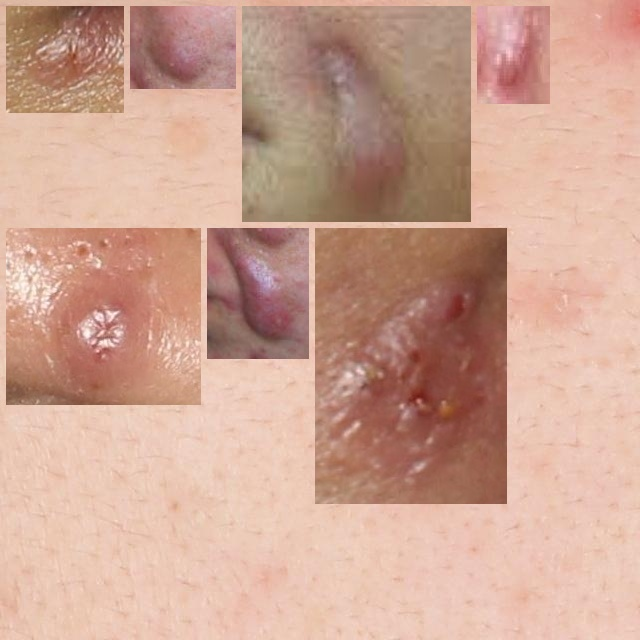nodule: (323, 236, 499, 496), (250, 14, 463, 214), (14, 236, 193, 397), (215, 236, 301, 351), (14, 14, 116, 105), (138, 14, 228, 81), (485, 14, 542, 96)
